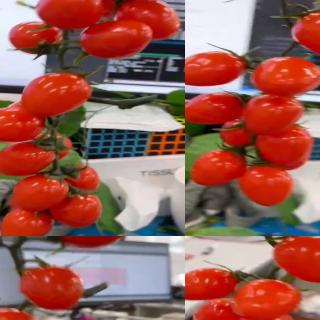tomato: (20, 72, 92, 119), (18, 265, 84, 312), (79, 19, 153, 59), (250, 56, 320, 98), (233, 279, 303, 320), (114, 0, 182, 42), (255, 124, 313, 169), (238, 163, 295, 208), (242, 96, 304, 136), (187, 149, 248, 188), (272, 236, 320, 285), (185, 52, 247, 89), (10, 172, 69, 210), (37, 0, 106, 31), (9, 22, 68, 58), (185, 92, 245, 126), (0, 142, 56, 178), (0, 102, 47, 143), (185, 266, 240, 301), (50, 194, 103, 229), (0, 205, 52, 236), (289, 7, 320, 58), (192, 297, 245, 320), (62, 164, 102, 193), (47, 236, 130, 248), (235, 312, 296, 320)
